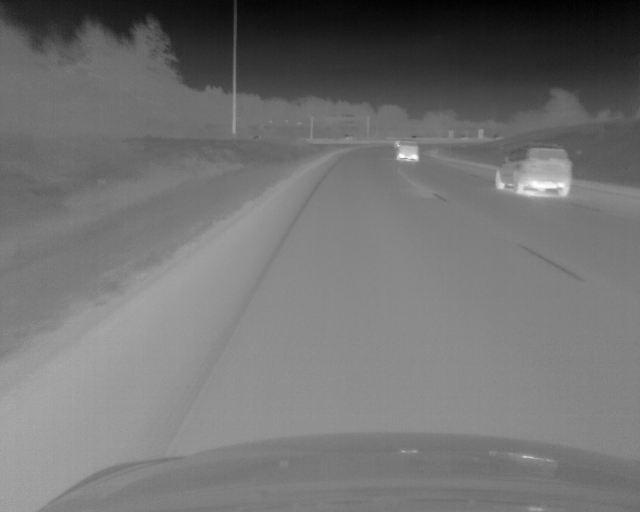car: (494, 146, 571, 196), (397, 142, 420, 161)
